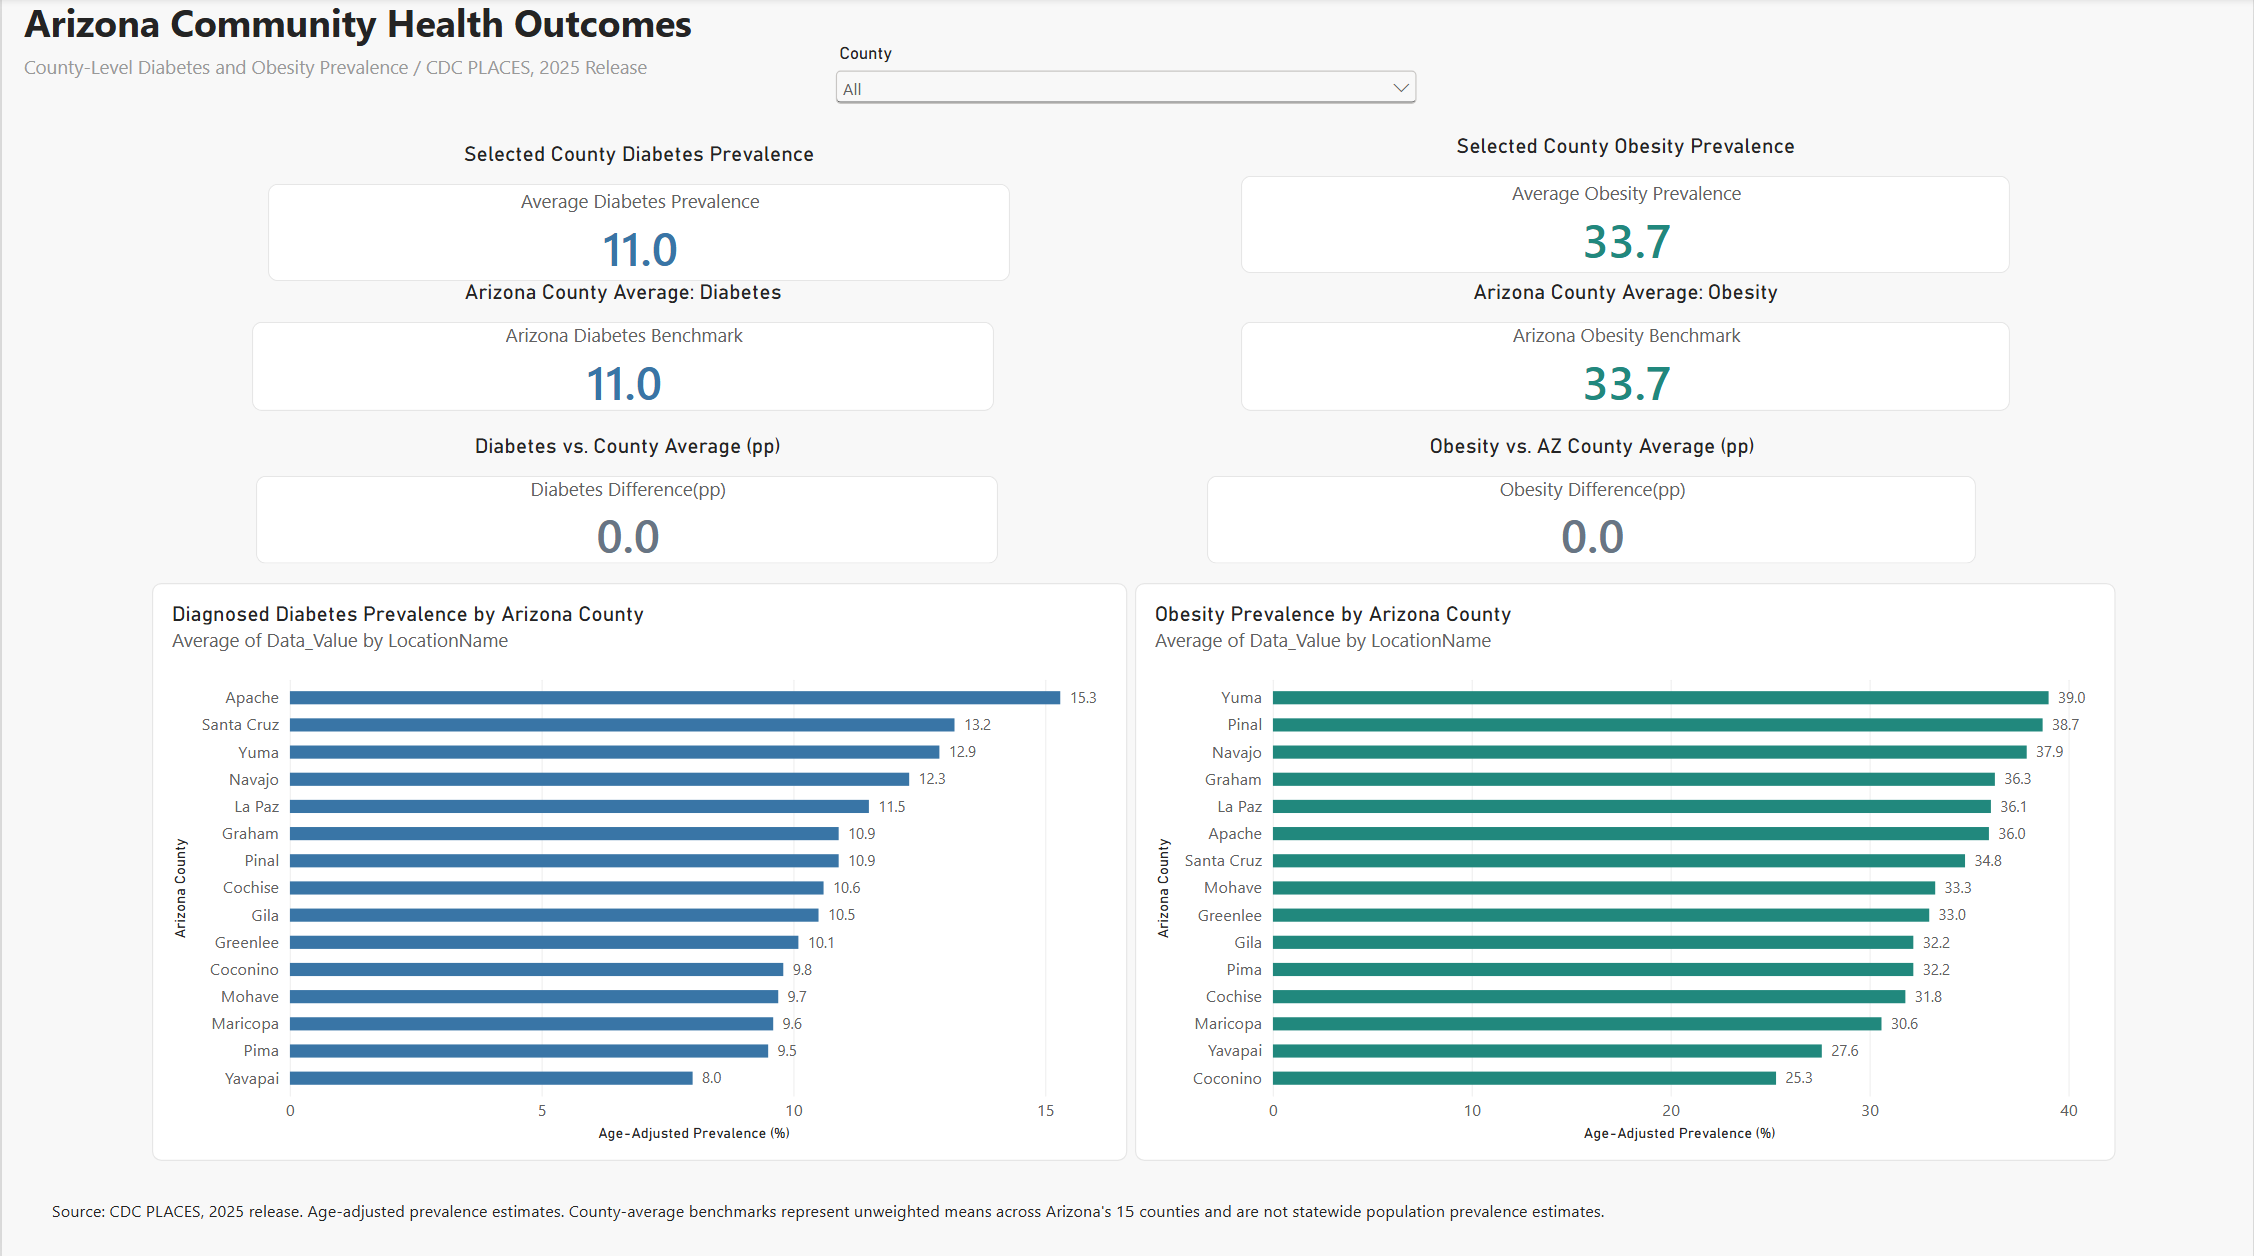

The dashboard page shown, as its layout file describes it:
{"tool":"powerbi","page":{"name":"Community Health Overview","canvas":[1920,1080],"ordinal":0},"visuals":[{"type":"clusteredBarChart","title":"Diagnosed Diabetes Prevalence by Arizona County","fields":{"Category":["CDC_PLACES_Arizona_2025.LocationName"],"Y":["Avg(CDC_PLACES_Arizona_2025.Data_Value)"]},"box":[127.3,500,831.8,493.2],"z":0},{"type":"clusteredBarChart","title":"Obesity Prevalence by Arizona County","fields":{"Category":["CDC_PLACES_Arizona_2025.LocationName"],"Y":["Avg(CDC_PLACES_Arizona_2025.Data_Value)"]},"box":[965.9,500,836.4,493.2],"z":1000},{"type":"textbox","box":[18.2,0,611.8,72.9],"z":2000},{"type":"textbox","box":[18.2,47.7,534.1,50.6],"z":3000},{"type":"cardVisual","title":"Selected County Diabetes Prevalence","fields":{"Data":["CDC_PLACES_Arizona_2025.Average Diabetes Prevalence"]},"box":[227.3,122.7,633.3,120],"z":4000},{"type":"cardVisual","title":"Selected County Obesity Prevalence","fields":{"Data":["CDC_PLACES_Arizona_2025.Average Obesity Prevalence"]},"box":[1056.8,115.9,656.7,120],"z":5000},{"type":"slicer","fields":{"Values":["CDC_PLACES_Arizona_2025.LocationName"]},"box":[706.8,38.6,504.7,84.7],"z":6000},{"type":"cardVisual","title":"Arizona County Average: Diabetes","fields":{"Data":["CDC_PLACES_Arizona_2025.Arizona Diabetes Benchmark"]},"box":[213.6,240.9,633.3,113.3],"z":7000},{"type":"cardVisual","title":"Arizona County Average: Obesity","fields":{"Data":["CDC_PLACES_Arizona_2025.Arizona Obesity Benchmark"]},"box":[1056.8,240.9,656.7,113.3],"z":7001},{"type":"cardVisual","title":"Diabetes vs. County Average (pp)","fields":{"Data":["CDC_PLACES_Arizona_2025.Diabetes Difference(pp)"]},"box":[215.9,372.7,633.3,111.7],"z":7002},{"type":"cardVisual","title":"Obesity vs. AZ County Average (pp)","fields":{"Data":["CDC_PLACES_Arizona_2025.Obesity Difference(pp)"]},"box":[1027.3,372.7,656.7,111.7],"z":7003},{"type":"textbox","box":[43.2,1025,1432.4,34.4],"z":7004}]}

Visuals, with their boxes in screenshot pixels (x1, y1, x2, y2), scaled from the page's 1920x1080 canvas onto the 2254x1256 screenshot:
"Diagnosed Diabetes Prevalence by Arizona County" clusteredBarChart: left=149, top=581, right=1126, bottom=1155
"Obesity Prevalence by Arizona County" clusteredBarChart: left=1134, top=581, right=2116, bottom=1155
textbox: left=21, top=0, right=740, bottom=85
textbox: left=21, top=55, right=648, bottom=114
"Selected County Diabetes Prevalence" cardVisual: left=267, top=143, right=1010, bottom=282
"Selected County Obesity Prevalence" cardVisual: left=1241, top=135, right=2012, bottom=274
slicer - CDC_PLACES_Arizona_2025.LocationName: left=830, top=45, right=1422, bottom=143
"Arizona County Average: Diabetes" cardVisual: left=251, top=280, right=994, bottom=412
"Arizona County Average: Obesity" cardVisual: left=1241, top=280, right=2012, bottom=412
"Diabetes vs. County Average (pp)" cardVisual: left=253, top=433, right=997, bottom=563
"Obesity vs. AZ County Average (pp)" cardVisual: left=1206, top=433, right=1977, bottom=563
textbox: left=51, top=1192, right=1732, bottom=1232
